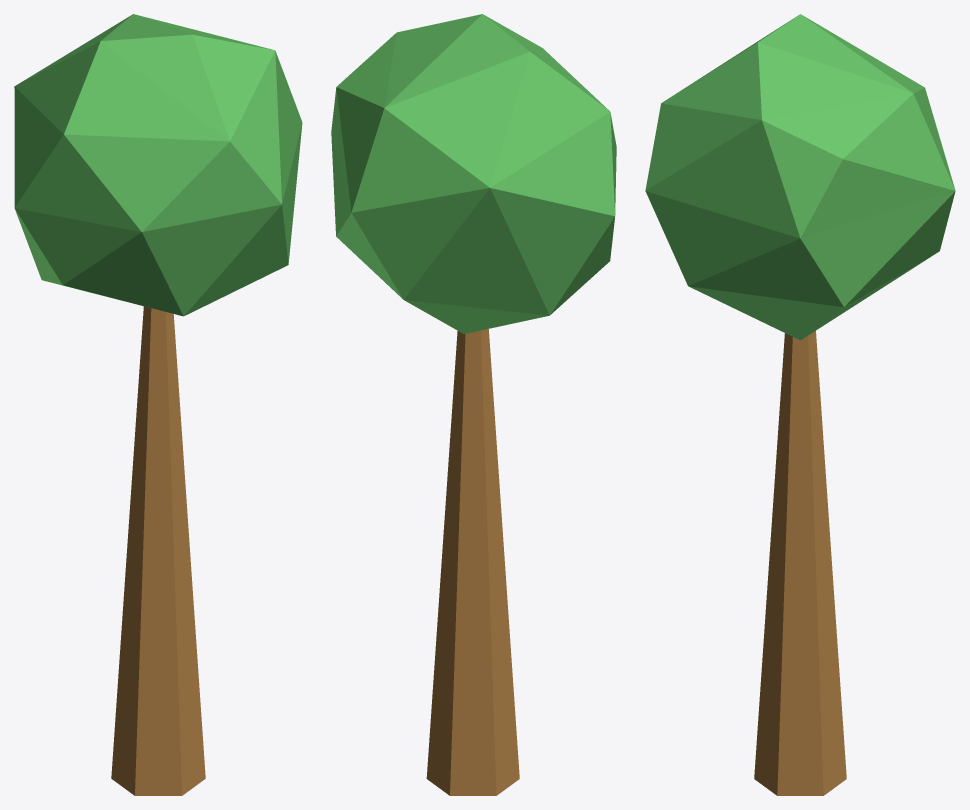
The model's file is tree00-1480515132952.fbx.
3 views of the same model, side by side, from view 1: azimuth 30°, elevation 25°; view 2: azimuth 150°, elevation 25°; view 3: azimuth 270°, elevation 25° (orthographic).
Visible parts, largest first — view 1: tree00.001; view 2: tree00.001; view 3: tree00.001.
Part boxes in pixels (<box>): tree00.001: <box>14,14,302,795</box>; tree00.001: <box>331,14,616,795</box>; tree00.001: <box>645,14,955,795</box>.
Size of the model in its own units: 166 by 416 by 158.
